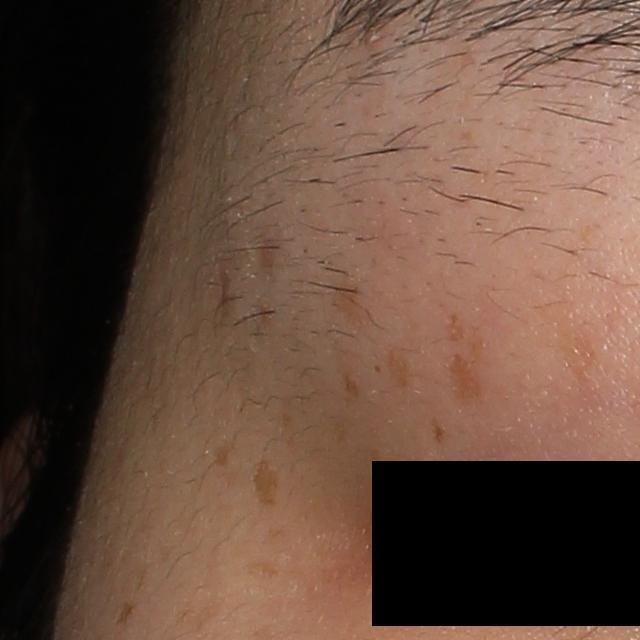melasma: (328, 269, 374, 331), (555, 322, 597, 385), (441, 312, 486, 359), (447, 352, 482, 408), (249, 449, 282, 507), (387, 344, 420, 395), (257, 221, 278, 280), (240, 556, 283, 581), (112, 599, 140, 626), (213, 438, 238, 466), (343, 366, 361, 400), (428, 415, 446, 446)
